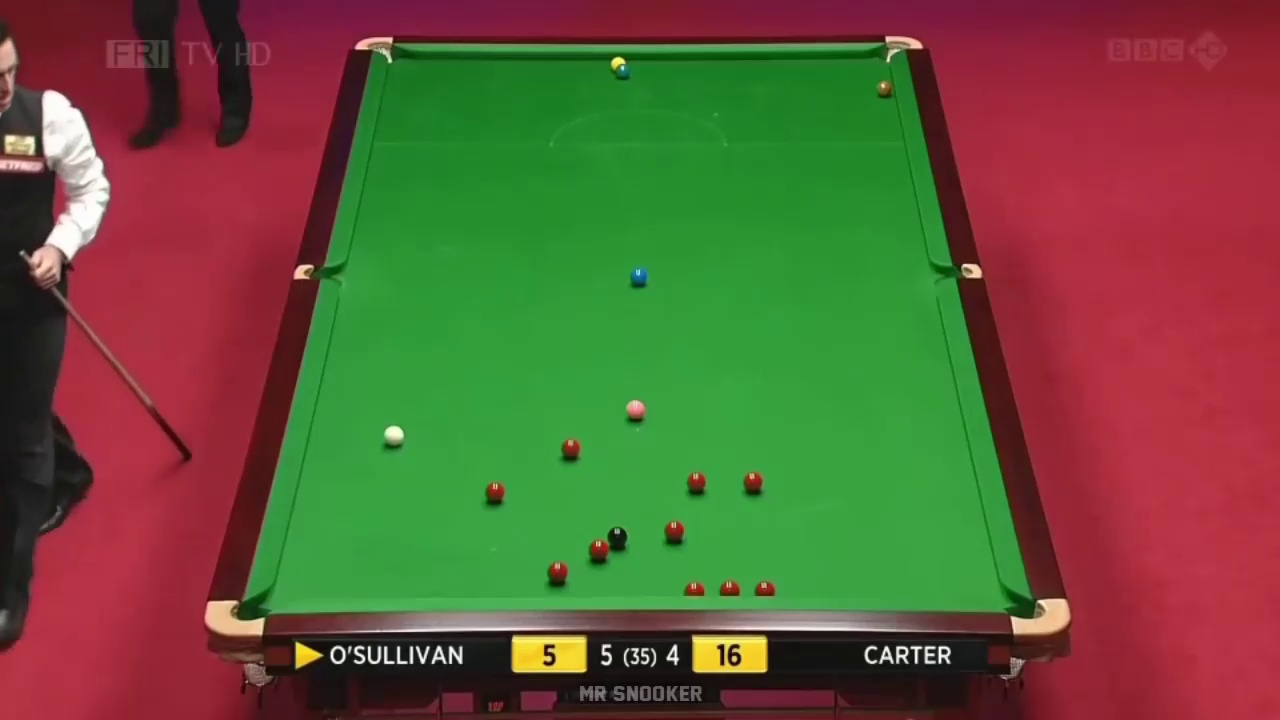blue: (627, 268, 647, 285)
brown: (876, 77, 893, 95)
green: (616, 63, 631, 78)
pink: (624, 399, 645, 421)
red: (483, 483, 505, 505), (589, 539, 609, 560), (548, 561, 566, 584), (667, 519, 683, 543), (562, 439, 579, 460), (688, 473, 705, 494), (745, 471, 760, 489)
white: (382, 425, 405, 446)
